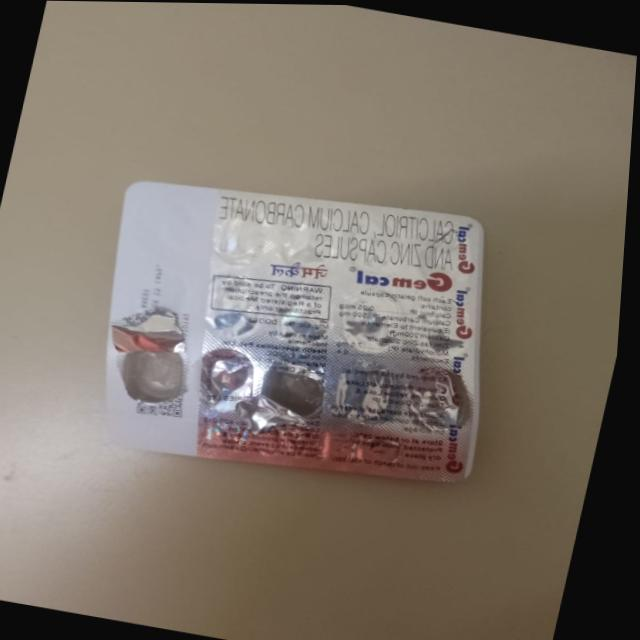medicine: (19, 118, 546, 525), (89, 148, 497, 497)
